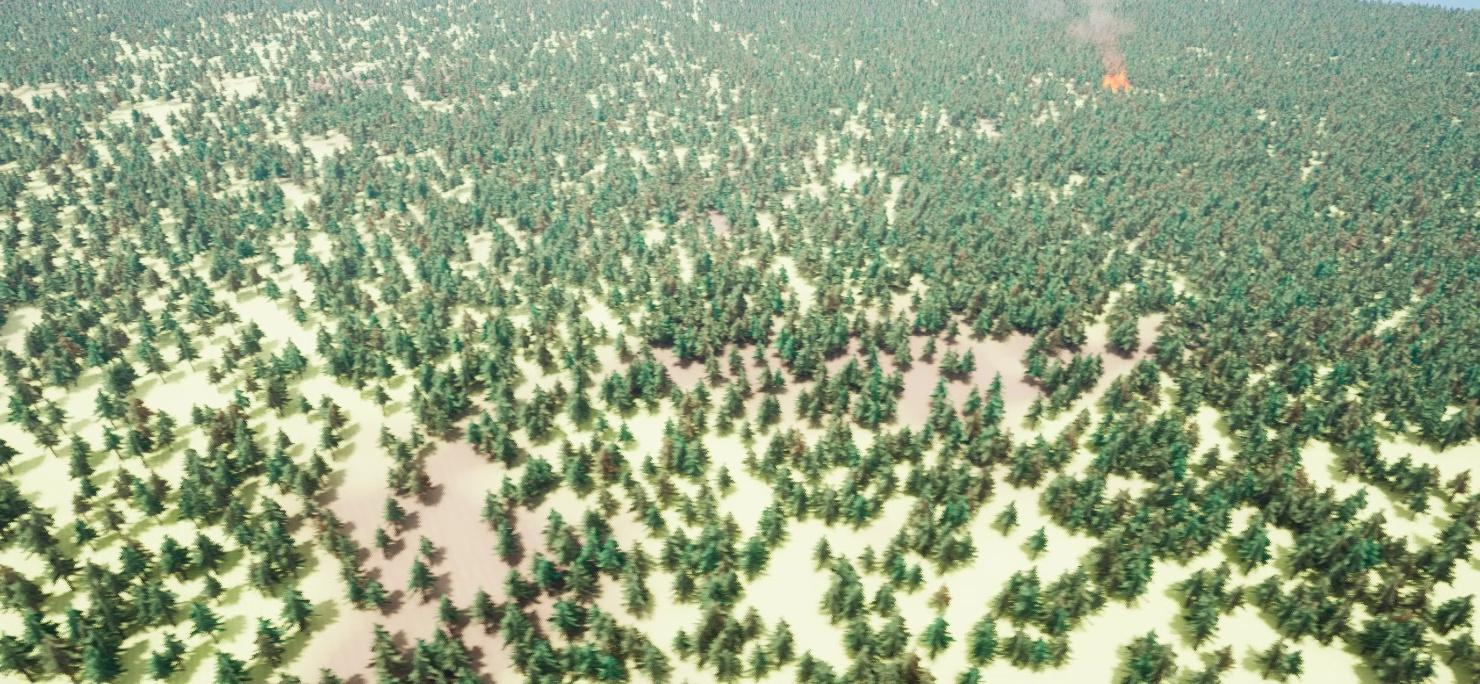fire: (1102, 69, 1128, 90)
smoke: (1044, 0, 1138, 75)
